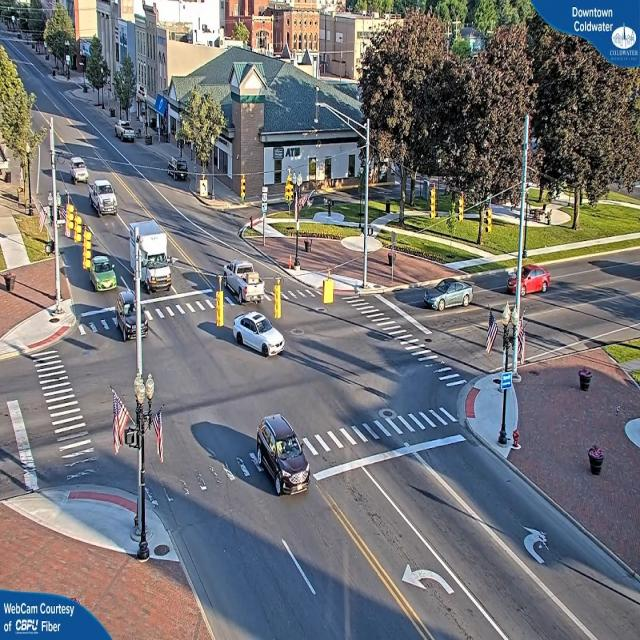car: (256, 414, 312, 496), (235, 310, 286, 358), (223, 259, 268, 304), (426, 278, 474, 311), (504, 268, 552, 299), (88, 254, 118, 292), (89, 180, 118, 216), (117, 122, 137, 144)
truck: (129, 219, 175, 294)
